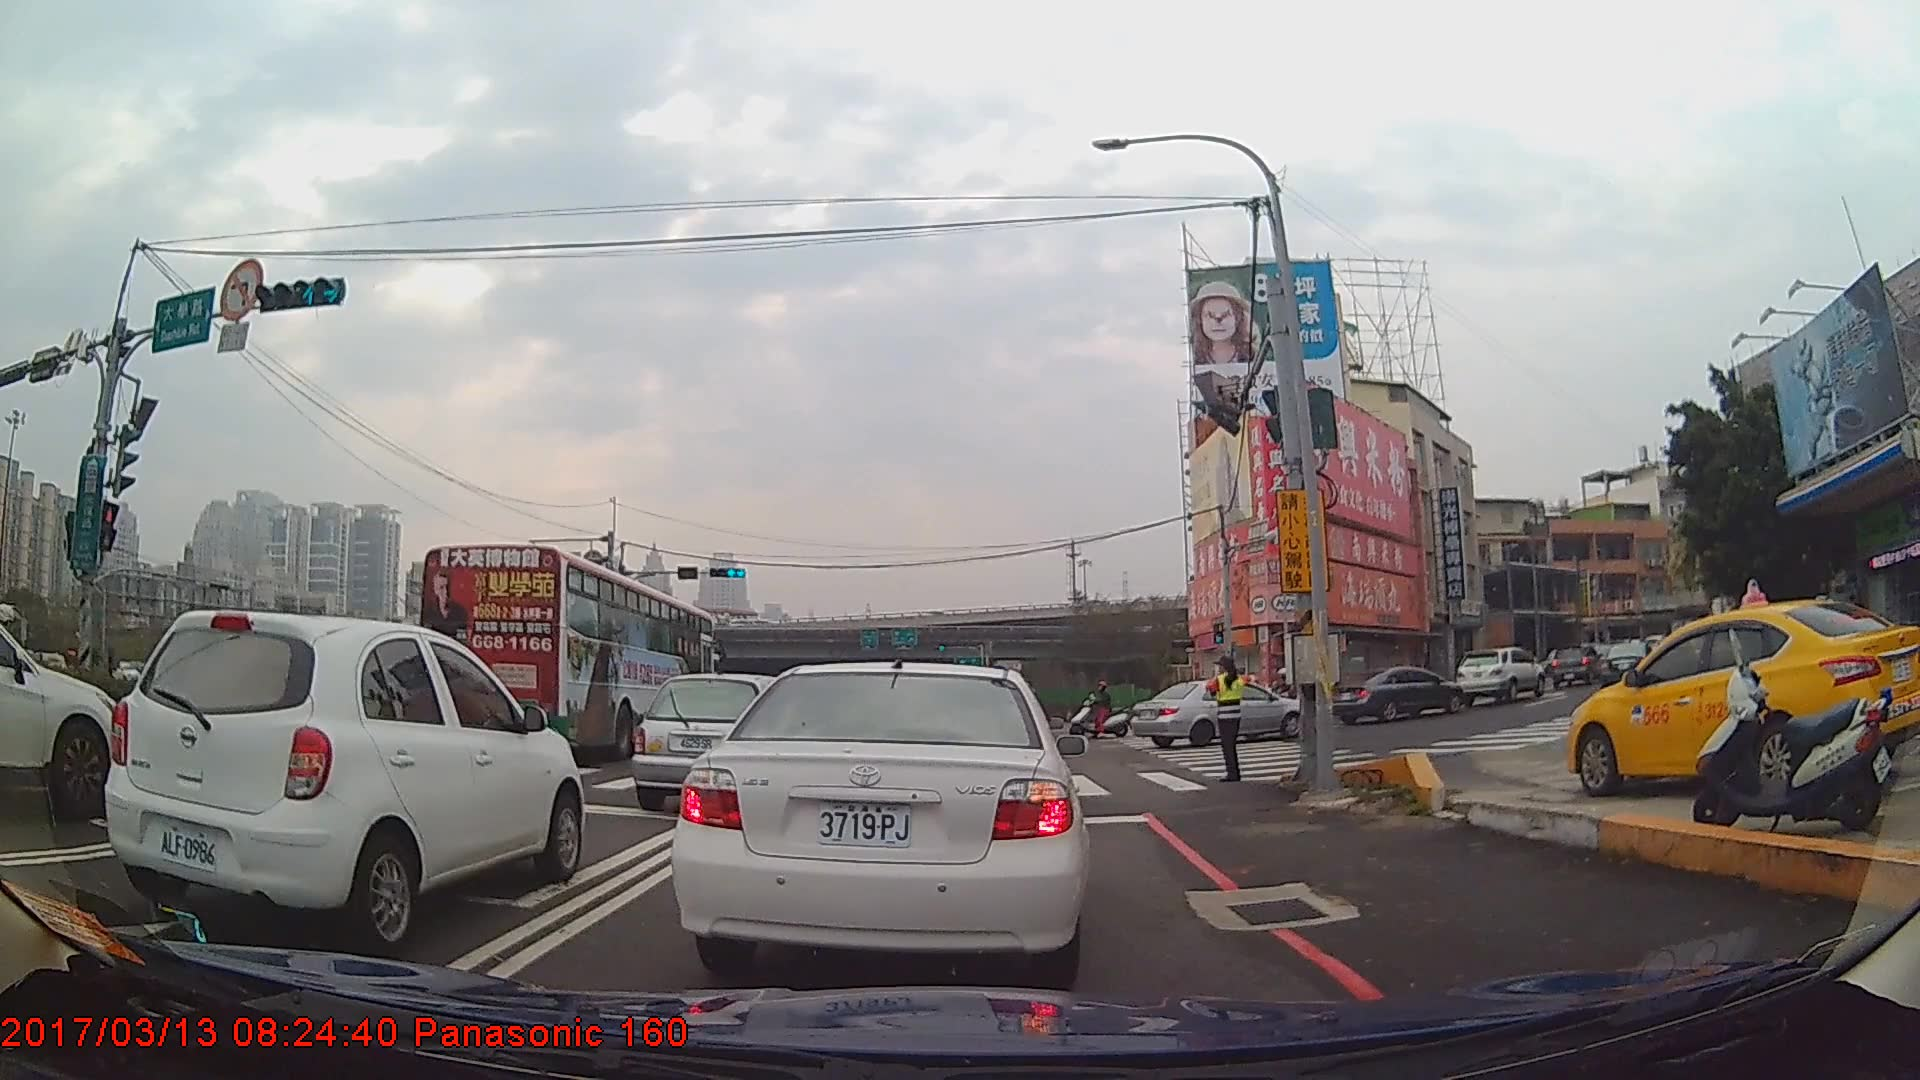pedestrian: (1205, 655, 1248, 785)
rider: (1, 605, 42, 732), (1072, 682, 1133, 738)
vehicle: (99, 605, 583, 948), (668, 658, 1086, 983), (1566, 599, 1920, 797), (411, 543, 719, 762), (629, 672, 822, 813), (0, 621, 123, 817), (1125, 677, 1304, 749), (1327, 664, 1462, 724), (1455, 645, 1544, 707), (1596, 638, 1660, 694), (1551, 642, 1603, 688)
